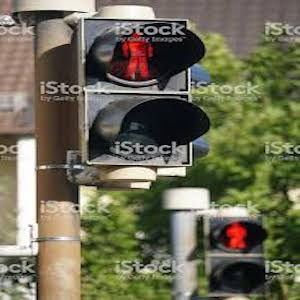red: (123, 29, 152, 78)
